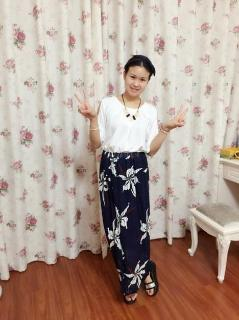short sleeve top: (91, 96, 159, 153)
skirt: (100, 150, 153, 296)
